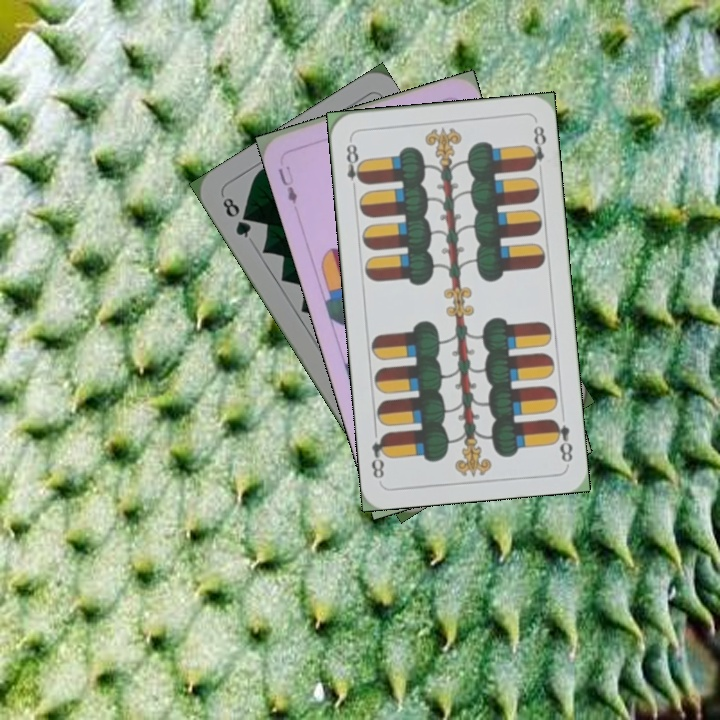E8: (342, 135, 367, 195), (548, 415, 576, 465)
EU: (274, 161, 300, 206)
G8: (218, 193, 254, 241)
